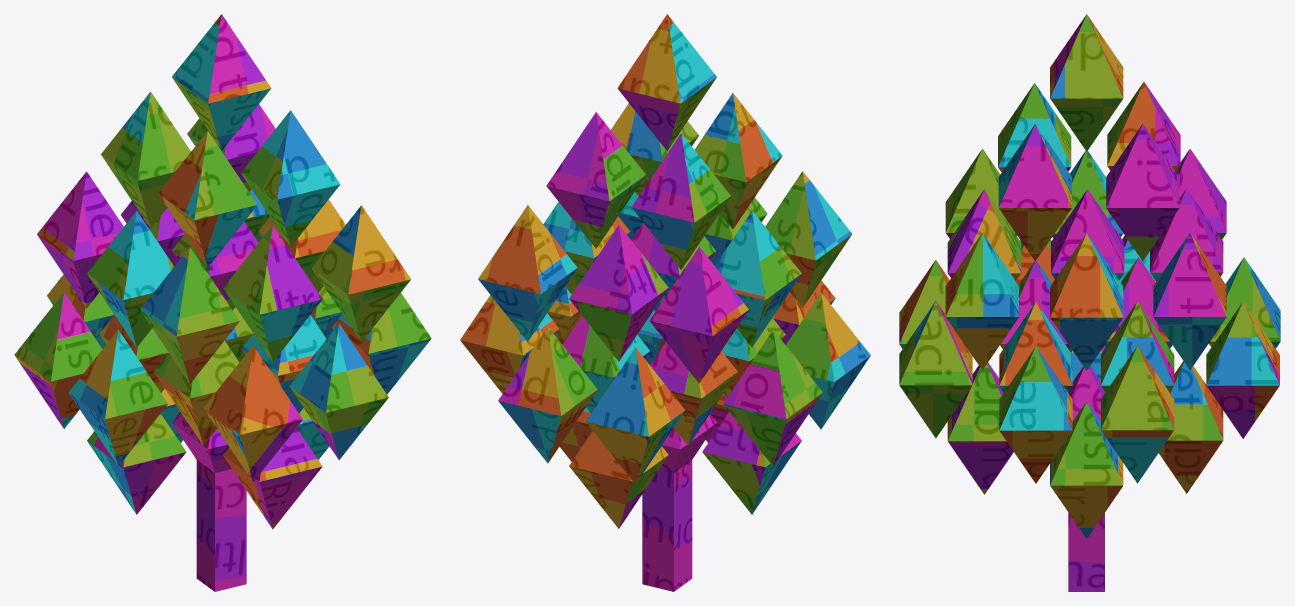
File: SM_Tree_2.fbx
3 renders of one model, left to right at view 1: azimuth 30°, elevation 25°; view 2: azimuth 150°, elevation 25°; view 3: azimuth 270°, elevation 25°, orthographic.
Visible parts, largest first — view 1: SM_Tree_2; view 2: SM_Tree_2; view 3: SM_Tree_2.
Boxes of the visible parts, x1,y1,x2,y2 form: SM_Tree_2: [14, 14, 431, 591]; SM_Tree_2: [460, 14, 870, 591]; SM_Tree_2: [899, 14, 1280, 591].
Bounding box in the file's own units: 38.41 × 63.14 × 38.29.
1 material, 1 textured.
